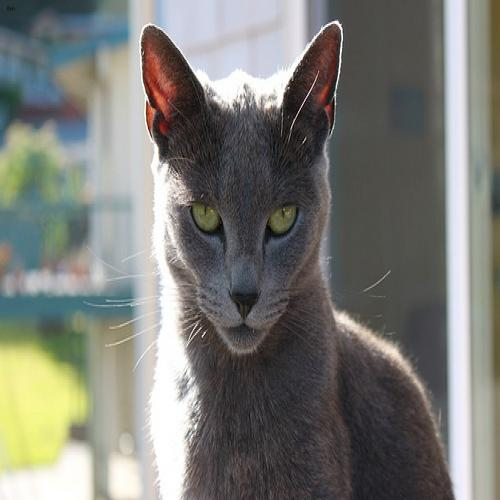rblue: (131, 16, 369, 373)
